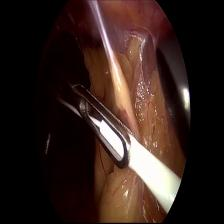Grasper: (65, 85, 132, 169)
